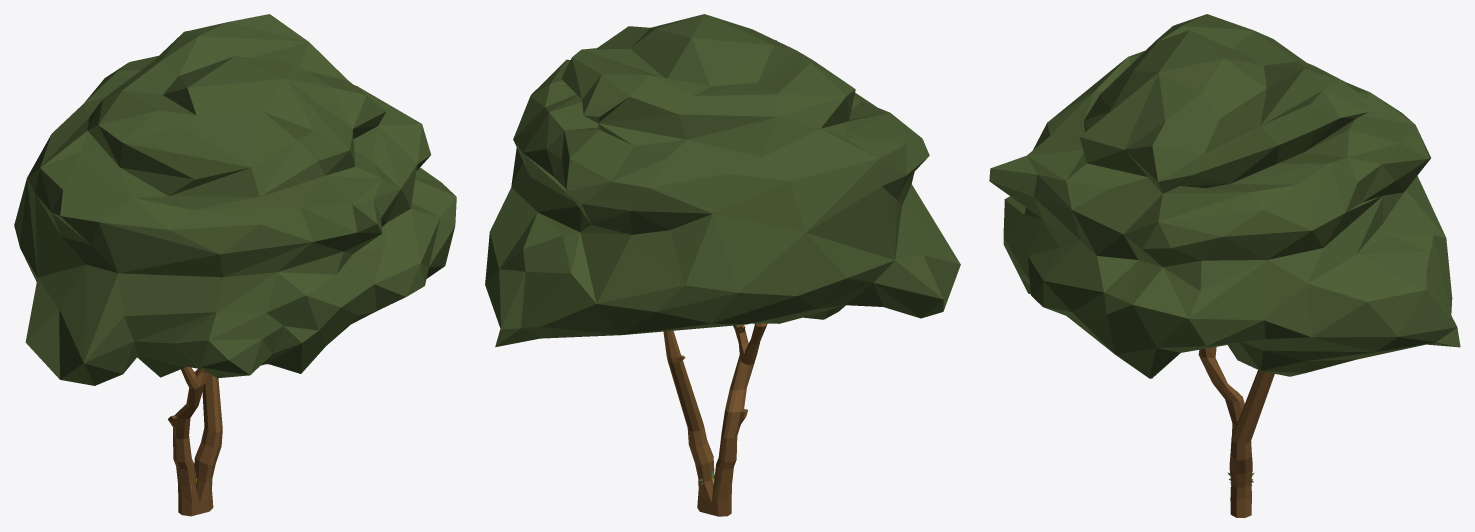
Rendered from delh_foli_06.fbx.
3 views of the same model, side by side, from view 1: azimuth 30°, elevation 25°; view 2: azimuth 150°, elevation 25°; view 3: azimuth 270°, elevation 25° (orthographic). The views are drawn at different scales.
Parts seen in each view (by area): view 1: delh_foli_06; view 2: delh_foli_06; view 3: delh_foli_06.
Boxes of the visible parts, <box> form: delh_foli_06: <box>14,14,456,516</box>; delh_foli_06: <box>485,14,960,516</box>; delh_foli_06: <box>989,14,1460,517</box>.
Size of the model in its own units: 603 by 625 by 570.
